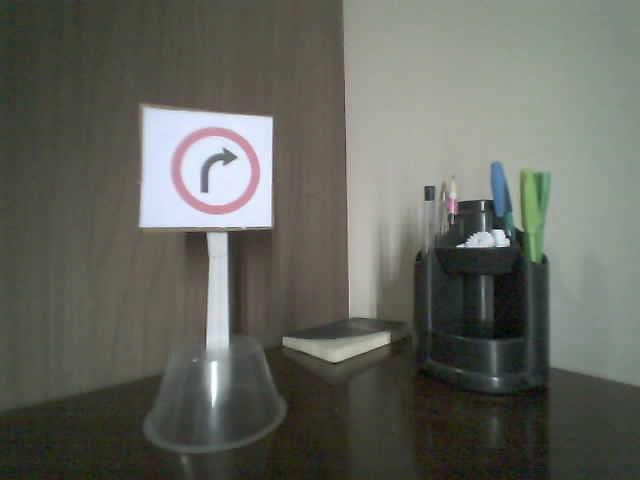R-25b_direita: (170, 125, 262, 216)
